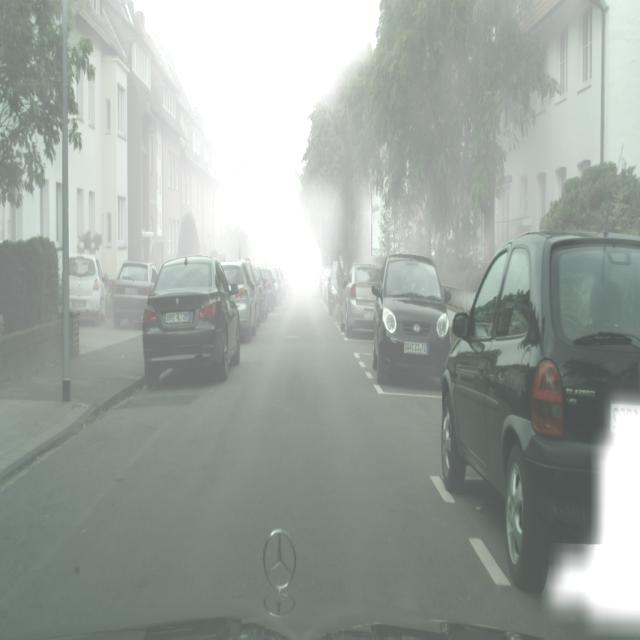bus: (440, 229, 639, 597), (142, 254, 241, 389), (371, 254, 451, 384), (112, 259, 160, 329), (340, 261, 383, 338), (221, 258, 259, 343), (68, 254, 107, 326), (259, 268, 276, 313), (255, 268, 268, 321), (265, 266, 282, 306), (269, 266, 285, 304), (322, 267, 332, 301), (280, 270, 291, 296)
